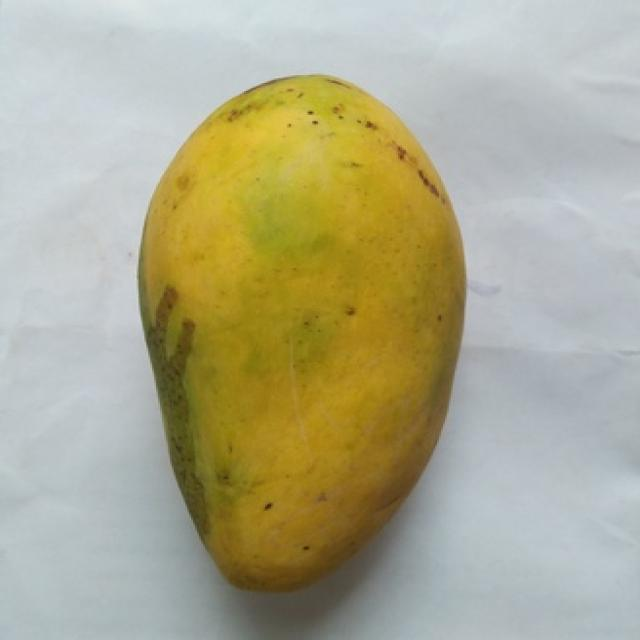Mango: (140, 77, 464, 591)
